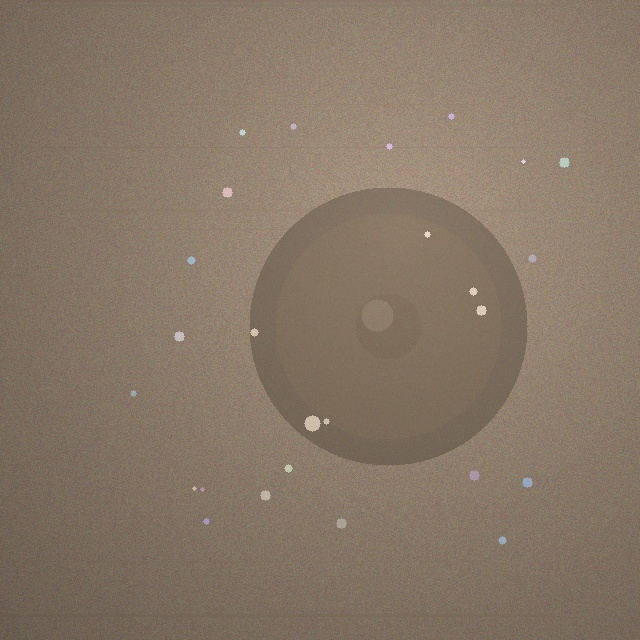overburn: (249, 187, 527, 465)
